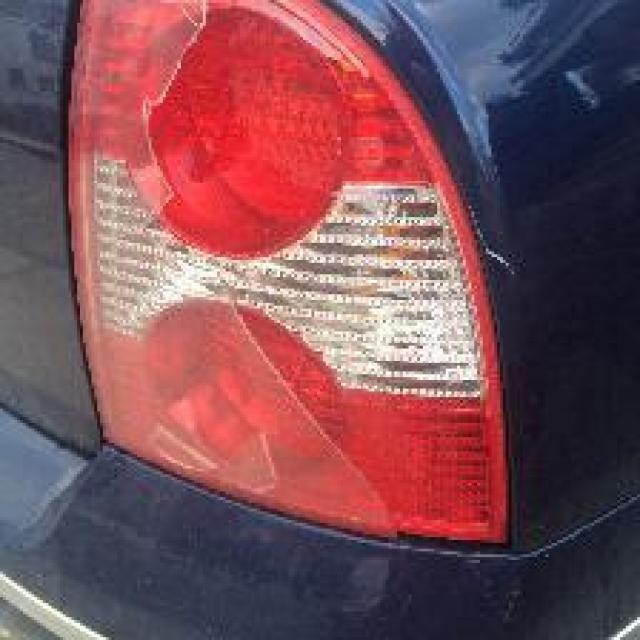damaged: (137, 6, 517, 566)
